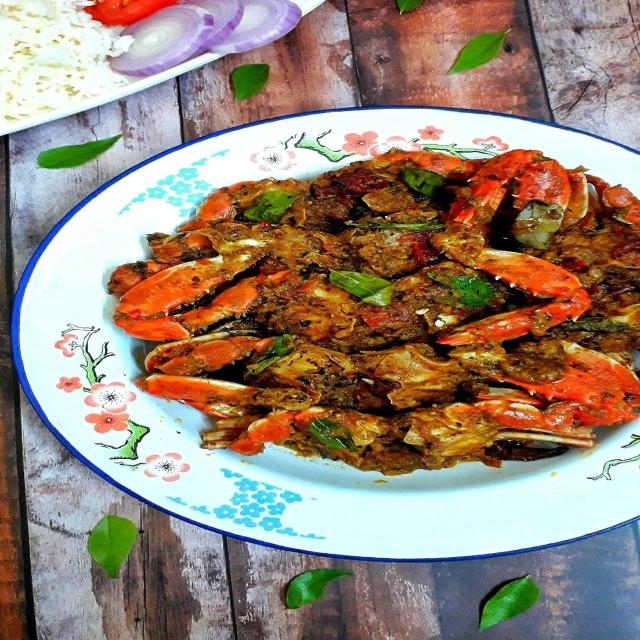nandu masala: (44, 142, 640, 438)
